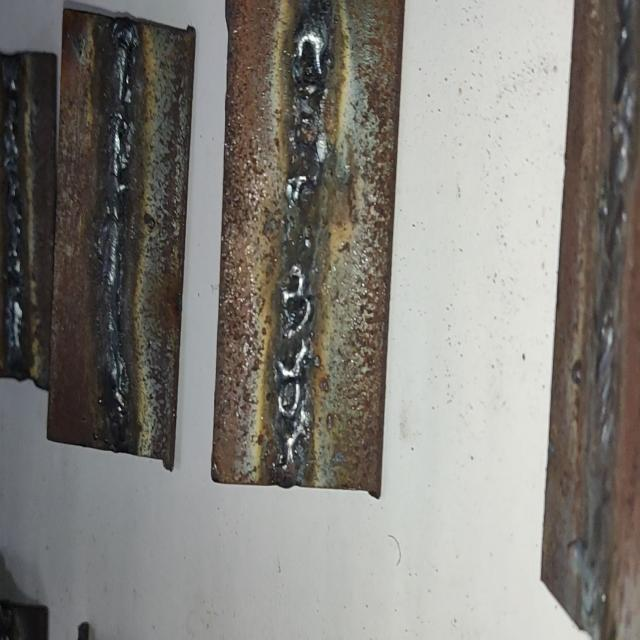Defect: (268, 28, 338, 466), (101, 51, 132, 421), (3, 75, 24, 365)
Welding Line: (274, 14, 332, 476), (104, 34, 135, 427), (0, 66, 33, 370)
Workpiece: (209, 0, 416, 485), (55, 9, 192, 443), (0, 51, 58, 384)
